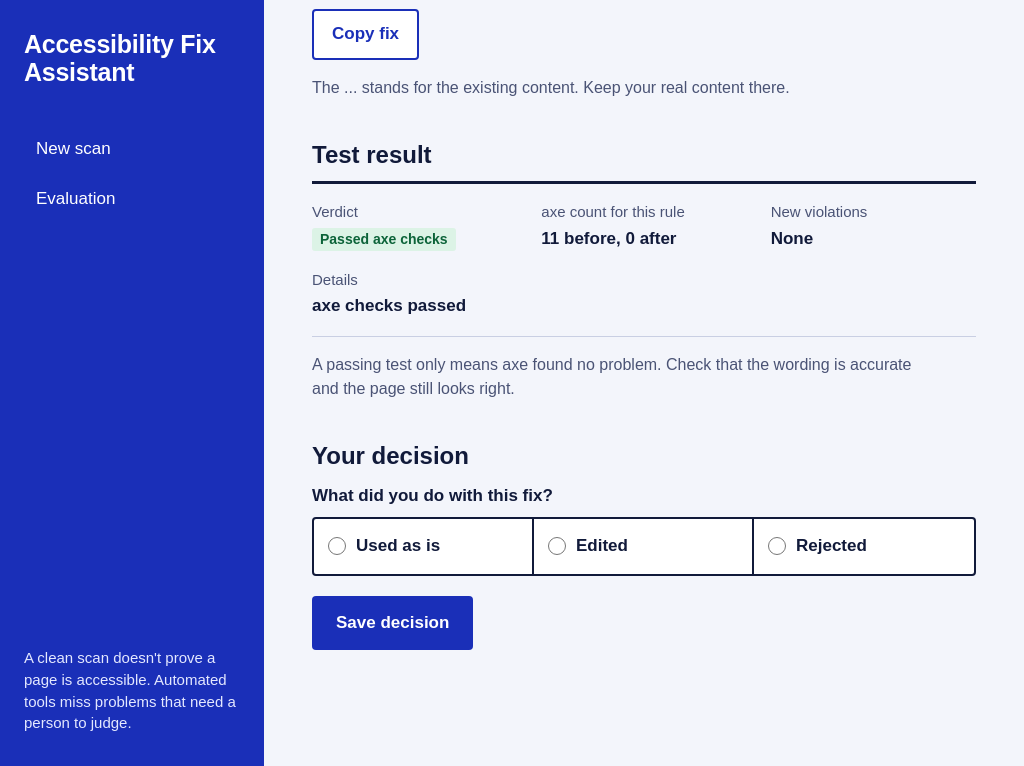
it: fixing a bad suggestion › tests my edit, clears the result when I change it, and saves the verdict
(page scrolled)
Click the radio button labelled "Edited" at (557, 546), box [548,538,566,556]
(page scrolled)
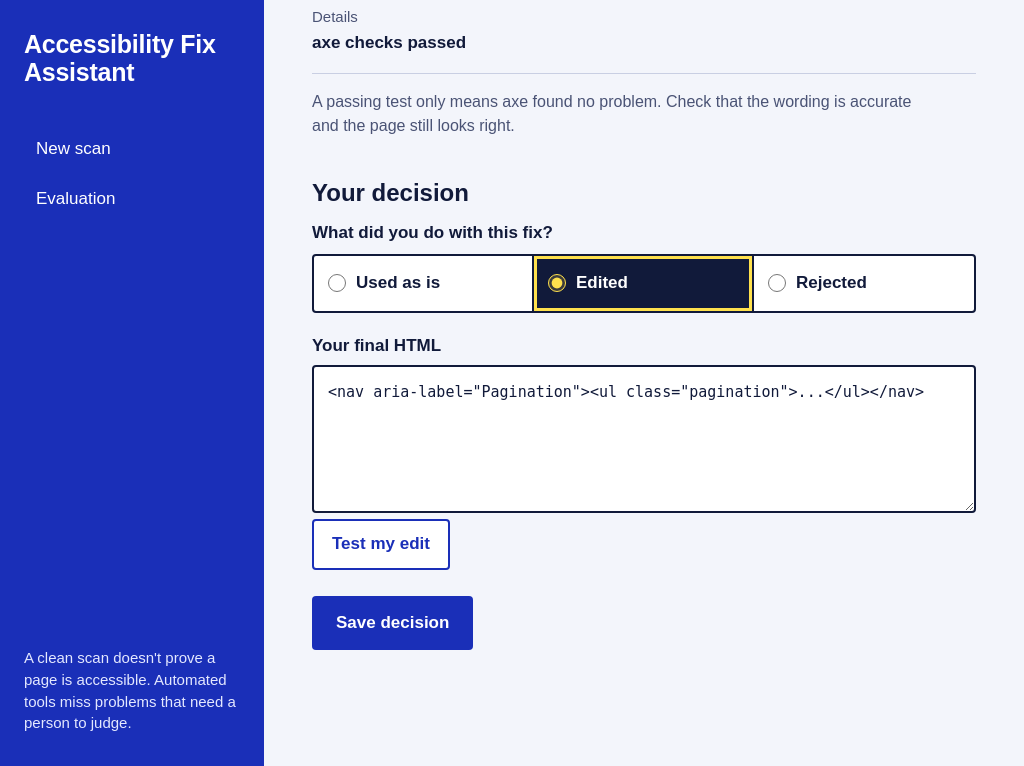
Click the button "Test my edit" at (381, 544), box [312,519,450,570]
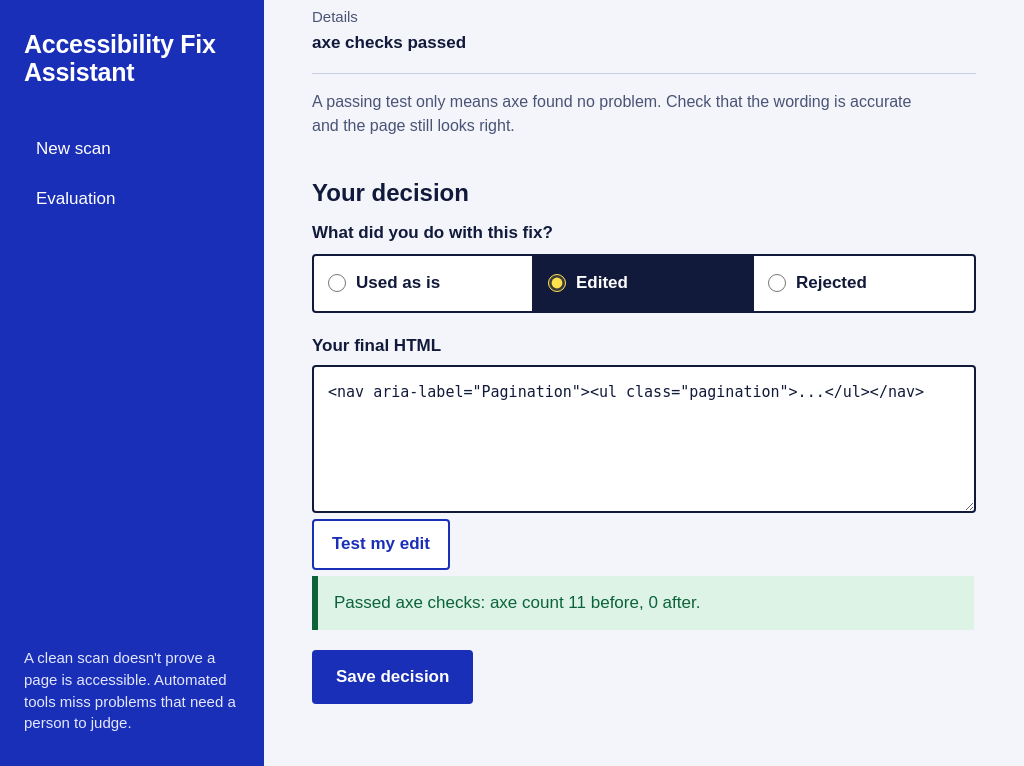
Expected: the text "Passed axe checks: axe count 11 before, 0 after." is shown, [312,576,974,630]
Type "x" into the text box labelled "Your final HTML" at (644, 439), box [312,365,976,513]
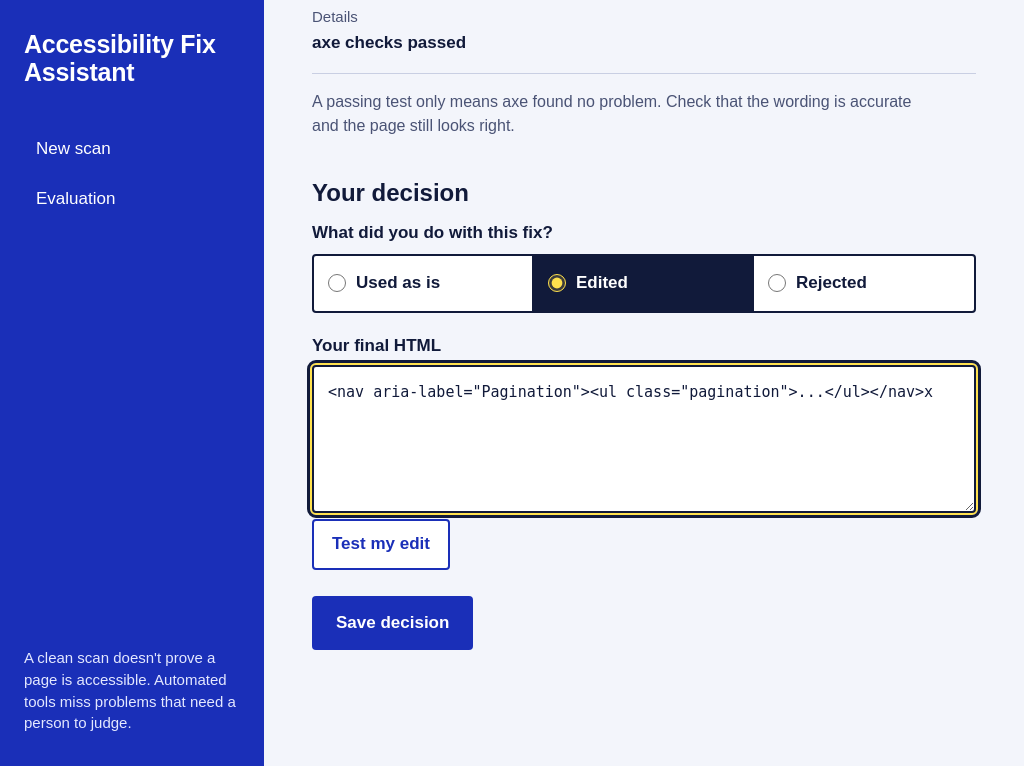
Expected: the text "axe count 11 before" is gone
Click the button "Test my edit" at (381, 544), box [312,519,450,570]
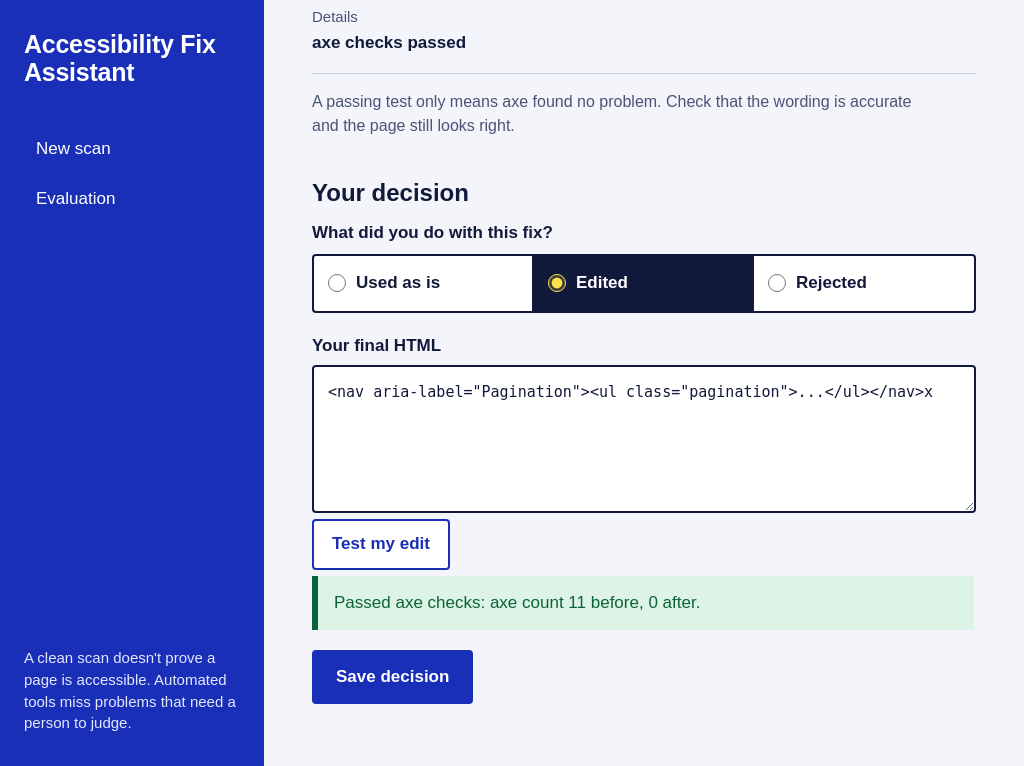
Expected: the text "Passed axe checks: axe count 11 before, 0 after." is shown, [312,576,974,630]
Click the button "Save decision" at (393, 677), box [312,650,473,704]
(page scrolled)
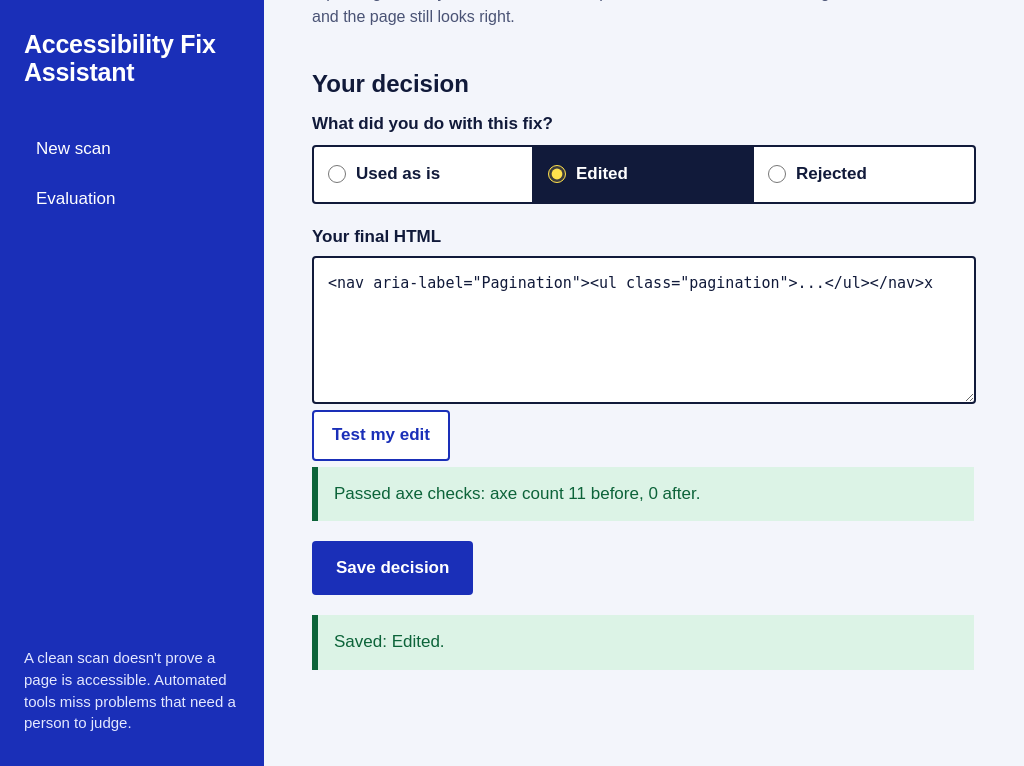
Expected: the text "Saved: Edited." is shown, [312,615,974,670]
